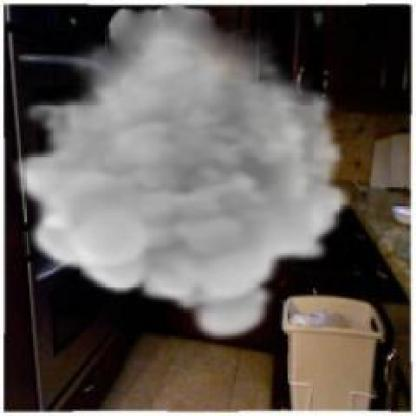Smoke: (11, 2, 351, 343)
